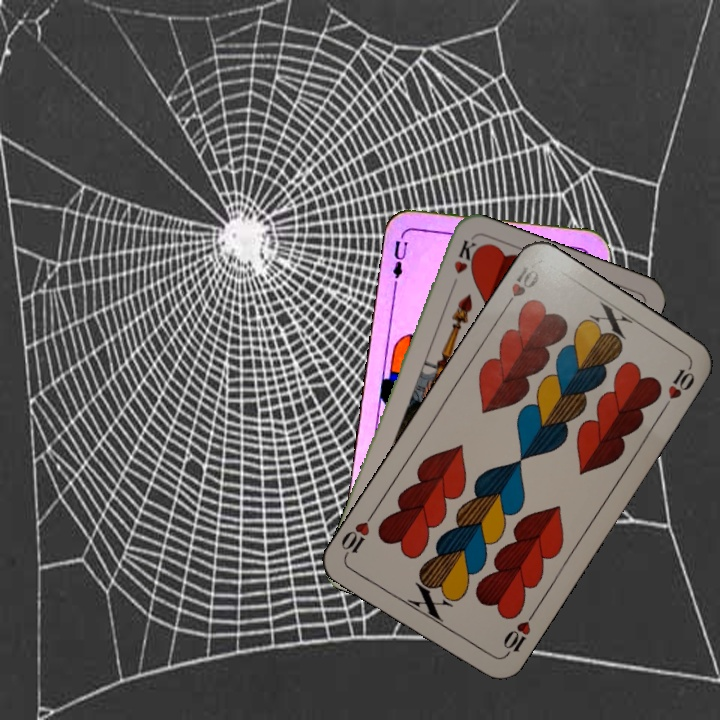EU: (388, 236, 412, 287)
H10: (499, 262, 542, 314), (499, 608, 538, 661)
HK: (446, 235, 479, 293)
